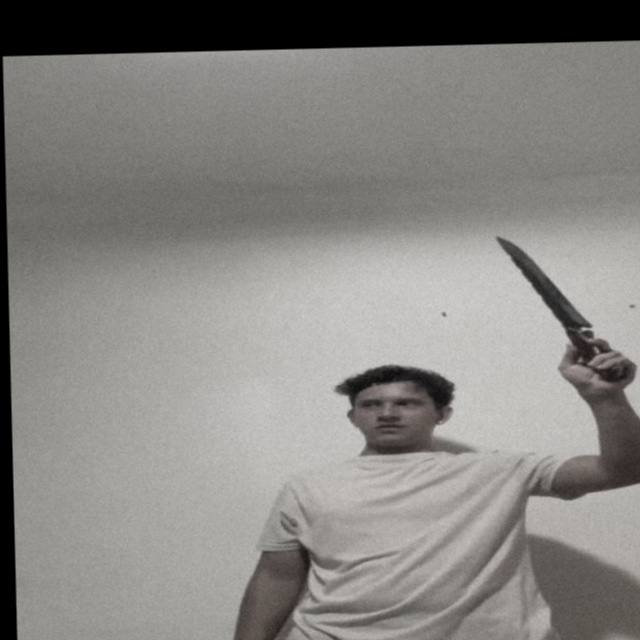Sharp-Object: (498, 234, 589, 328)
